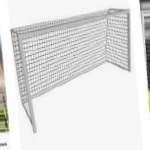goals: (10, 7, 134, 132)
